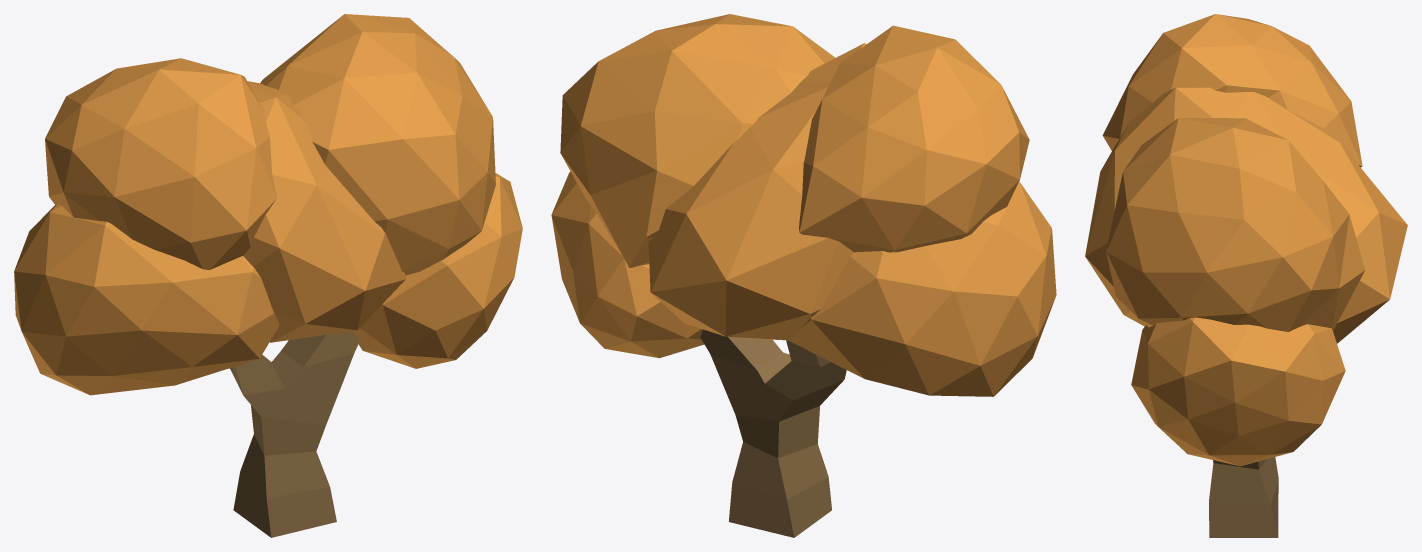
The model's file is forest-oak-a-fall.glb.
3 views of the same model, side by side, from view 1: azimuth 30°, elevation 25°; view 2: azimuth 150°, elevation 25°; view 3: azimuth 270°, elevation 25° (orthographic). The views are drawn at different scales.
Parts seen in each view (by area): view 1: OakTree1; view 2: OakTree1; view 3: OakTree1.
Part boxes in pixels (box(x1,y1,x2,y2)): OakTree1: box(14, 14, 522, 537); OakTree1: box(551, 14, 1056, 537); OakTree1: box(1085, 14, 1407, 537).
Bounding box in the file's own units: 9.76 × 9.59 × 6.28.
